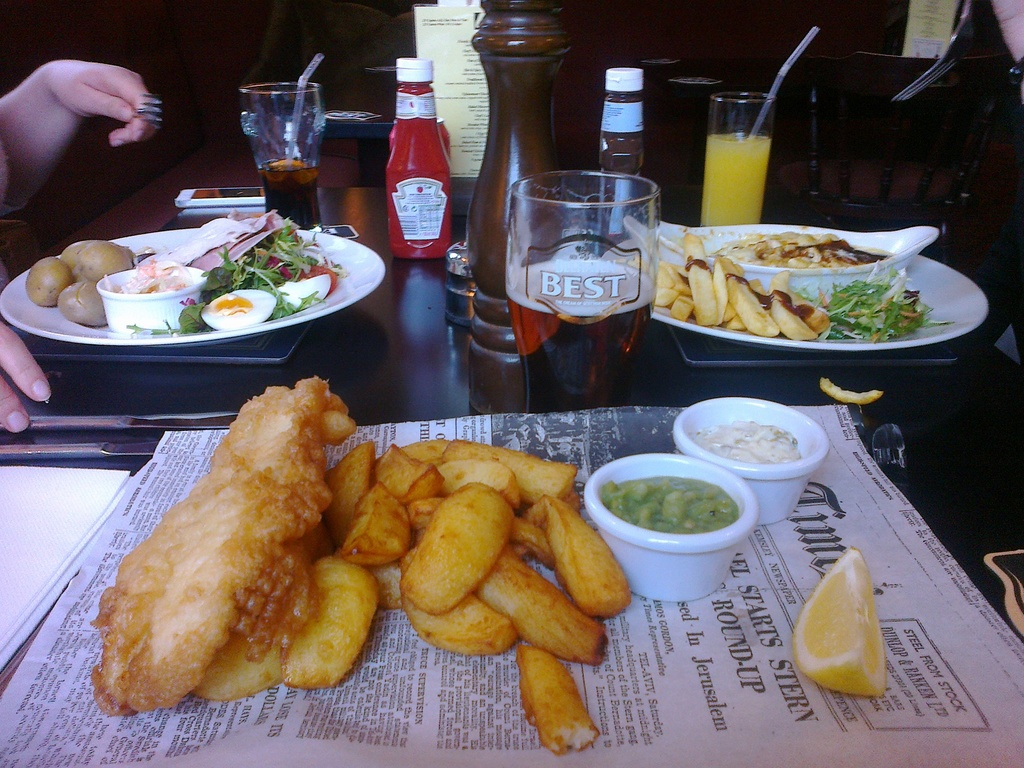French fries: (649, 224, 833, 336)
